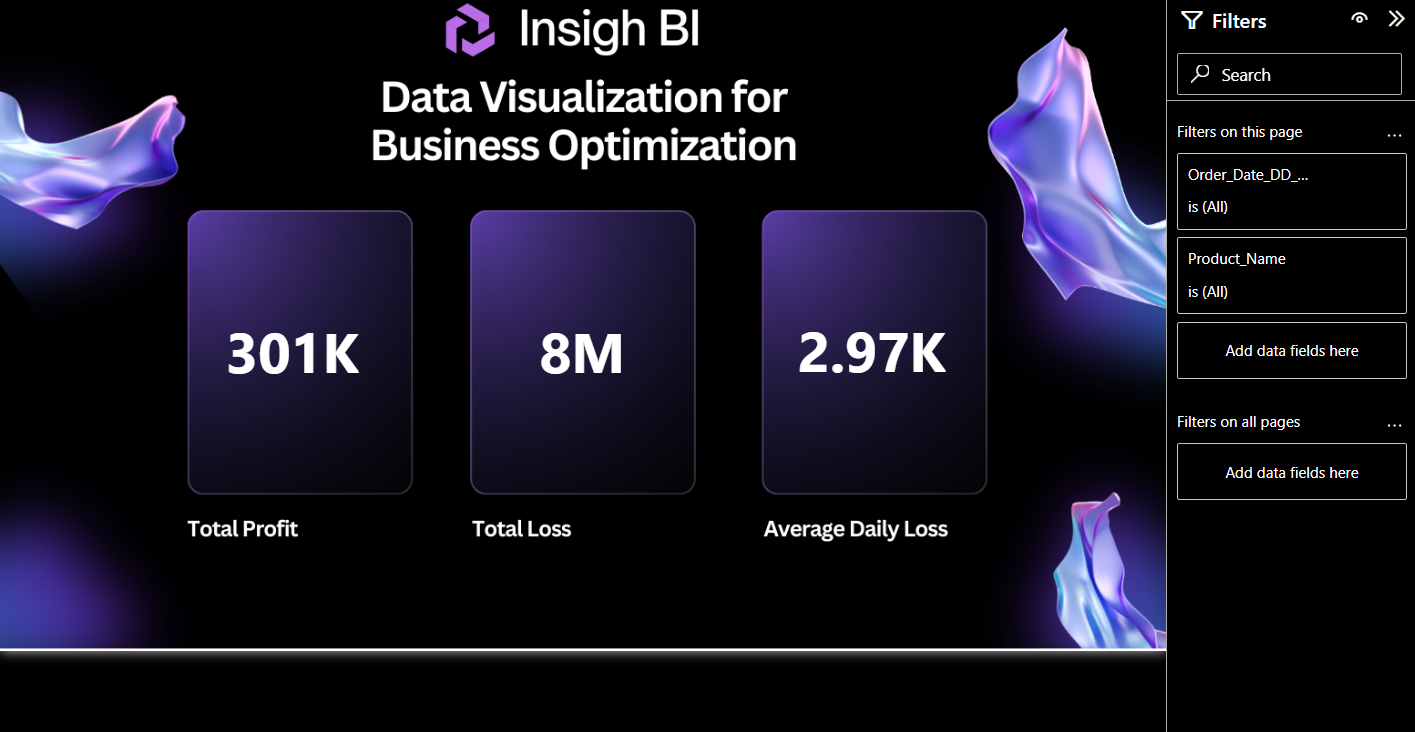

The page's visual inventory and layout, read from the dashboard file:
{"tool":"powerbi","page":{"name":"production_cost_analysis","canvas":[1280,720],"ordinal":1},"visuals":[{"type":"cardVisual","fields":{"Data":["MEasures Table.Total Profit"]},"box":[215.4,285.4,211.3,203.1],"z":0},{"type":"cardVisual","fields":{"Data":["MEasures Table.Total Loss"]},"box":[538.4,286,202.3,203.5],"z":1000},{"type":"cardVisual","fields":{"Data":["MEasures Table.Average Daily Loss"]},"box":[843.9,277.2,226.4,219.6],"z":2000}]}

Visuals, with their boxes on the page's 1280x720 design canvas (x1, y1, x2, y2). These are canvas units, not pixel positions in the 1415x732 screenshot, which may show the page scaled, cropped or inside an application window:
cardVisual - MEasures Table.Total Profit: <region>215, 285, 427, 488</region>
cardVisual - MEasures Table.Total Loss: <region>538, 286, 741, 490</region>
cardVisual - MEasures Table.Average Daily Loss: <region>844, 277, 1070, 497</region>
